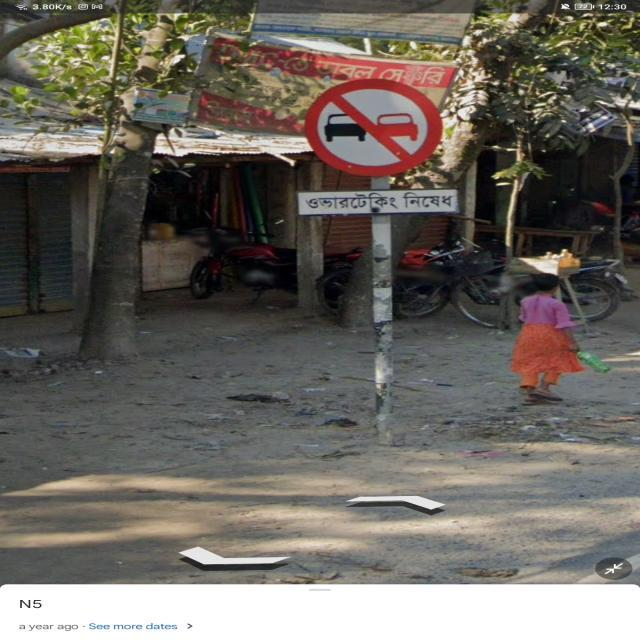Don-t-Overtracking: (289, 70, 477, 257)
